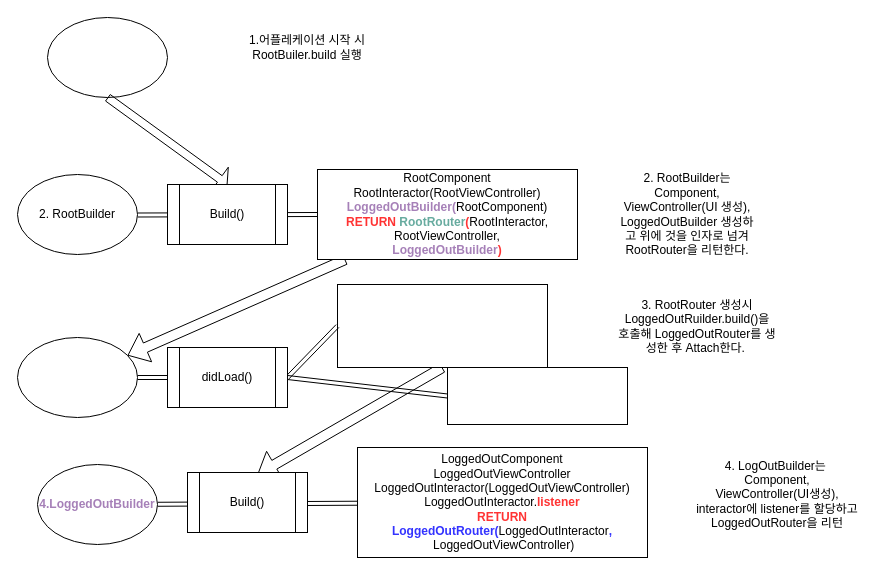
This 890x575 diagram has some shape labels left out. Each missing label, with the centre of its shape:
"1. AppDelegate" belongs at (107,57).
"3. RootRouter" belongs at (77,377).
"attachChild (loggedOutRouter)" belongs at (537,395).
"LoggedOutRouter = LoggedOutBuilder ->build()" belongs at (442,326).
